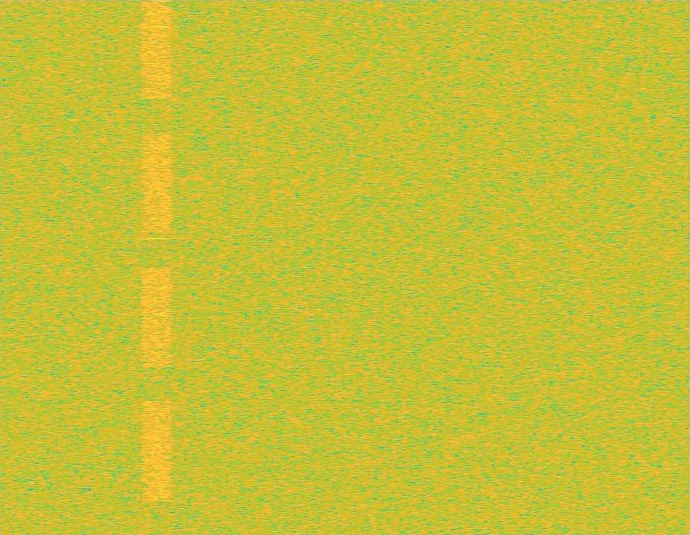5G: (140, 0, 174, 534)
Radar: (150, 0, 164, 534)
